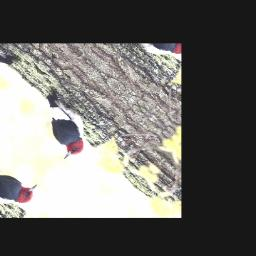Woodpecker: (19, 89, 102, 164)
